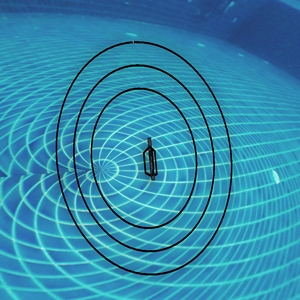submarine: (143, 141, 161, 174)
